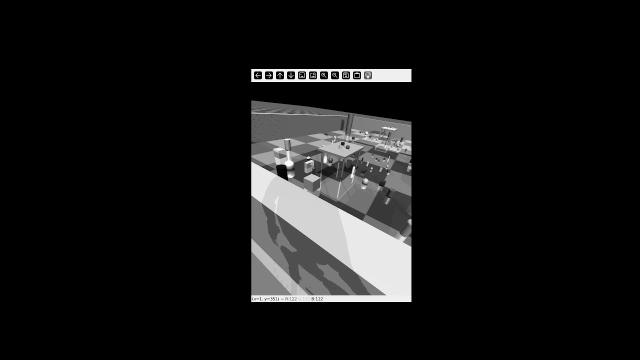cilindro: (400, 212, 411, 253), (344, 113, 356, 134), (276, 165, 288, 182), (387, 186, 399, 198), (286, 139, 291, 151), (312, 166, 317, 174), (352, 165, 356, 175), (323, 151, 328, 158), (385, 168, 392, 173), (323, 132, 330, 136), (361, 156, 365, 163), (378, 167, 383, 172), (338, 144, 342, 150), (400, 136, 404, 142), (366, 161, 370, 166), (397, 147, 401, 152), (371, 136, 375, 140), (385, 141, 389, 145), (331, 139, 334, 144), (334, 135, 337, 139), (405, 148, 409, 151), (388, 155, 391, 159), (383, 157, 387, 160), (395, 139, 398, 142), (389, 126, 391, 128)
cuadrado: (303, 174, 321, 192), (274, 147, 286, 158), (380, 178, 387, 188), (347, 159, 353, 164), (342, 141, 346, 145), (390, 142, 394, 145), (352, 137, 356, 140), (391, 128, 394, 130), (370, 135, 372, 138), (360, 131, 362, 133)
esfera: (286, 159, 295, 169), (362, 178, 372, 184), (345, 144, 351, 150), (327, 158, 333, 162), (306, 156, 310, 160), (370, 166, 374, 170), (364, 132, 369, 135), (386, 164, 389, 168), (396, 144, 400, 147), (372, 153, 376, 156), (390, 146, 393, 149), (364, 135, 368, 137), (378, 159, 381, 161), (375, 138, 378, 140), (386, 126, 388, 128)
rectangulo: (360, 168, 367, 175), (383, 141, 388, 145), (391, 138, 395, 141)
